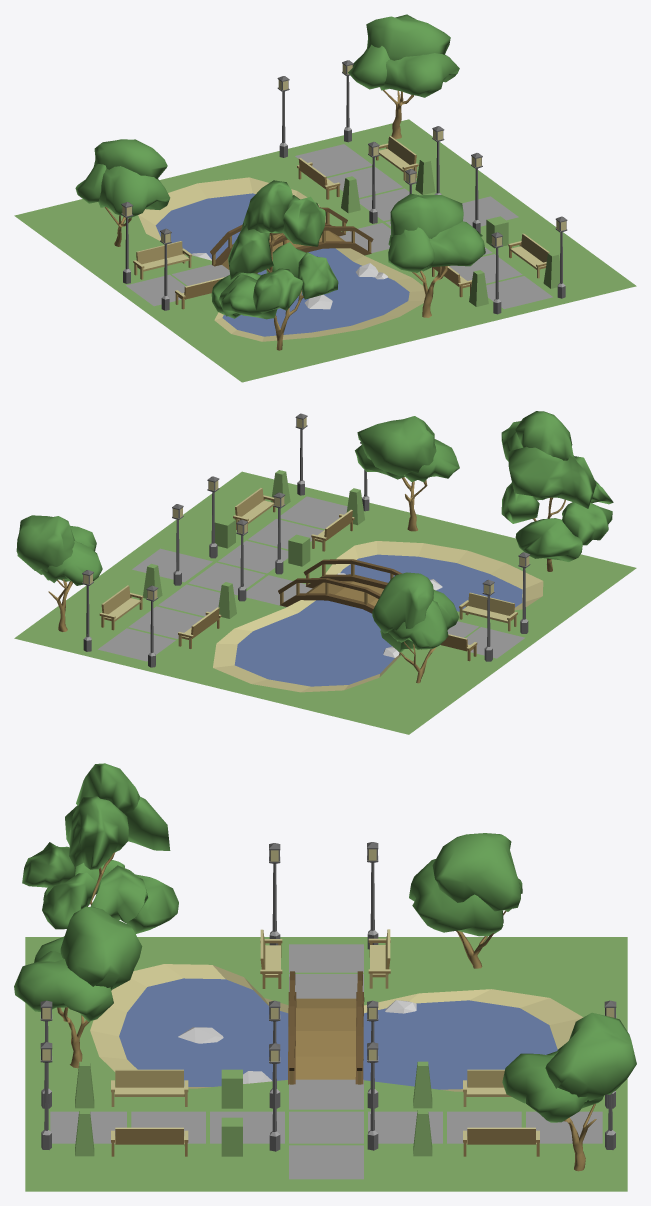
The model's file is park3-transformed.glb.
3 renders of one model, top to bottom at view 1: azimuth 30°, elevation 25°; view 2: azimuth 150°, elevation 25°; view 3: azimuth 270°, elevation 25°, orthographic. The views are drawn at different scales.
Parts seen in each view (by area): view 1: park.020; view 2: park.020; view 3: park.020.
Boxes of the visible parts, x1,y1,x2,y2 form: park.020: (14,14,636,382); park.020: (14,411,636,734); park.020: (14,763,636,1191).
Size of the model in its own units: 16.7 by 7.6 by 16.56.
Materials: 1 (1 with a texture image).
